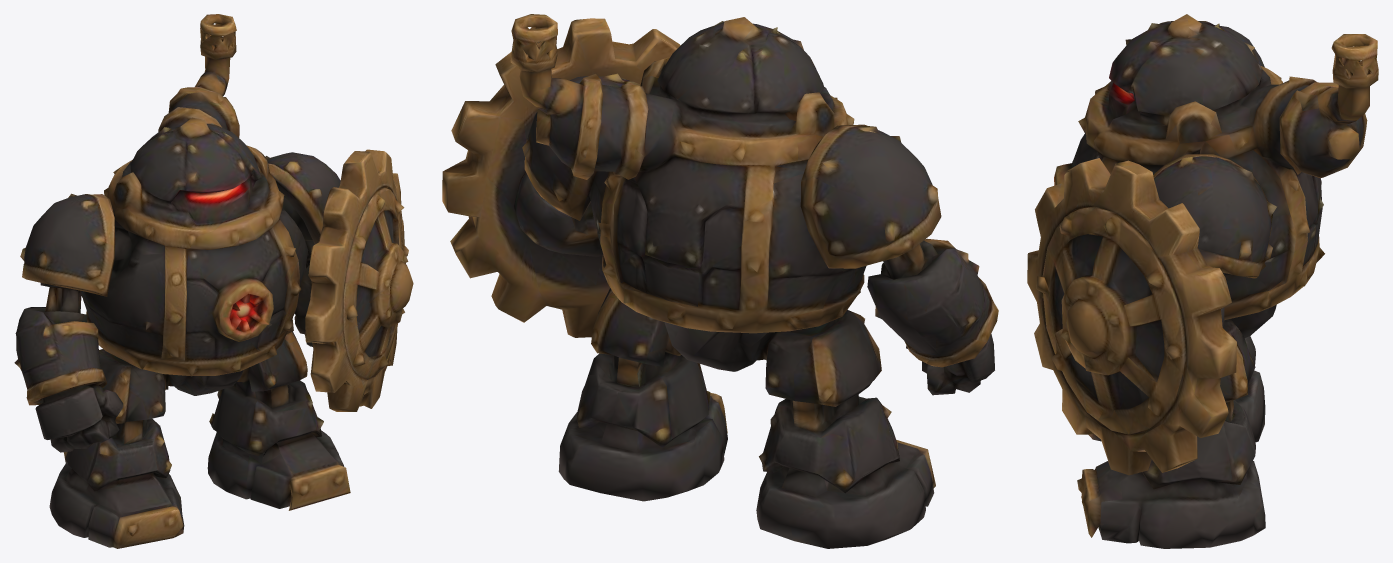
Rendered from elite_shield.glb.
3 views of the same model, side by side, from view 1: azimuth 30°, elevation 25°; view 2: azimuth 150°, elevation 25°; view 3: azimuth 270°, elevation 25° (orthographic). The views are drawn at different scales.
Parts seen in each view (by area): view 1: tripo_node_88b71ecc-6ec3-4188-a1ba-7fcabfa9c7e7; view 2: tripo_node_88b71ecc-6ec3-4188-a1ba-7fcabfa9c7e7; view 3: tripo_node_88b71ecc-6ec3-4188-a1ba-7fcabfa9c7e7.
Part boxes in pixels (left/top/right/bottom): tripo_node_88b71ecc-6ec3-4188-a1ba-7fcabfa9c7e7: left=14, top=14, right=413, bottom=548; tripo_node_88b71ecc-6ec3-4188-a1ba-7fcabfa9c7e7: left=442, top=14, right=998, bottom=548; tripo_node_88b71ecc-6ec3-4188-a1ba-7fcabfa9c7e7: left=1027, top=14, right=1378, bottom=548.
Size of the model in its own units: 1 by 0.9395 by 0.6194.
1 material, 1 textured.
